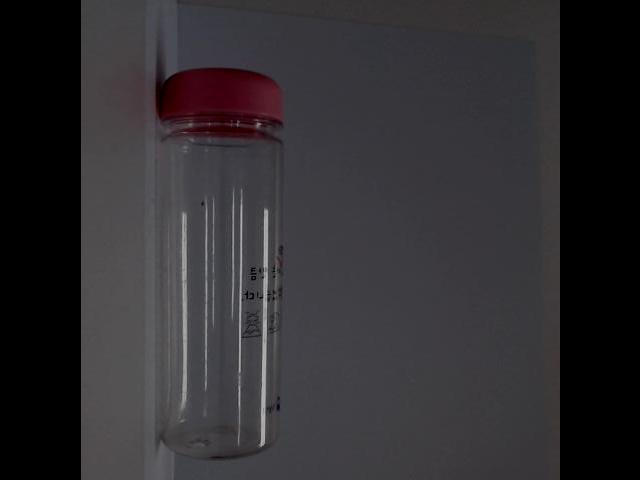bottle: (143, 63, 293, 464)
